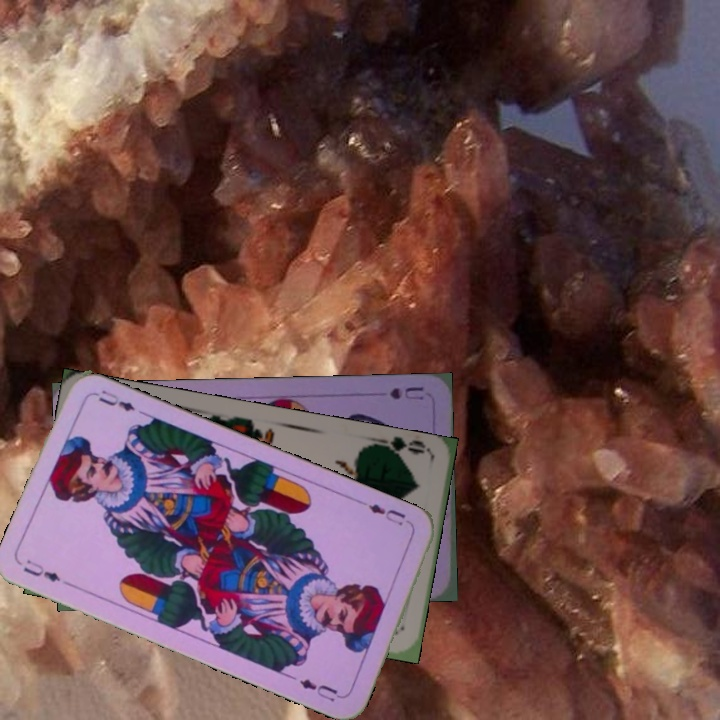EU: (364, 499, 414, 529), (19, 555, 63, 585)
GO: (370, 433, 430, 463)
SU: (386, 382, 426, 403)
